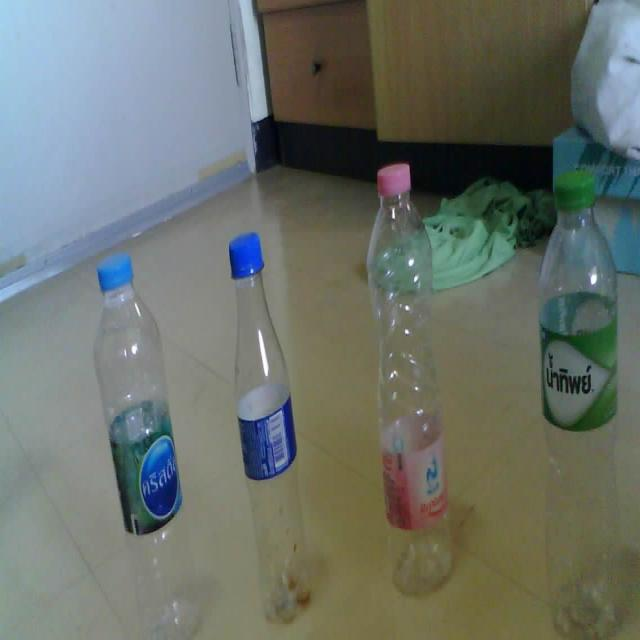empty: (94, 255, 198, 639), (539, 173, 616, 637), (368, 165, 450, 593), (229, 232, 310, 620)
